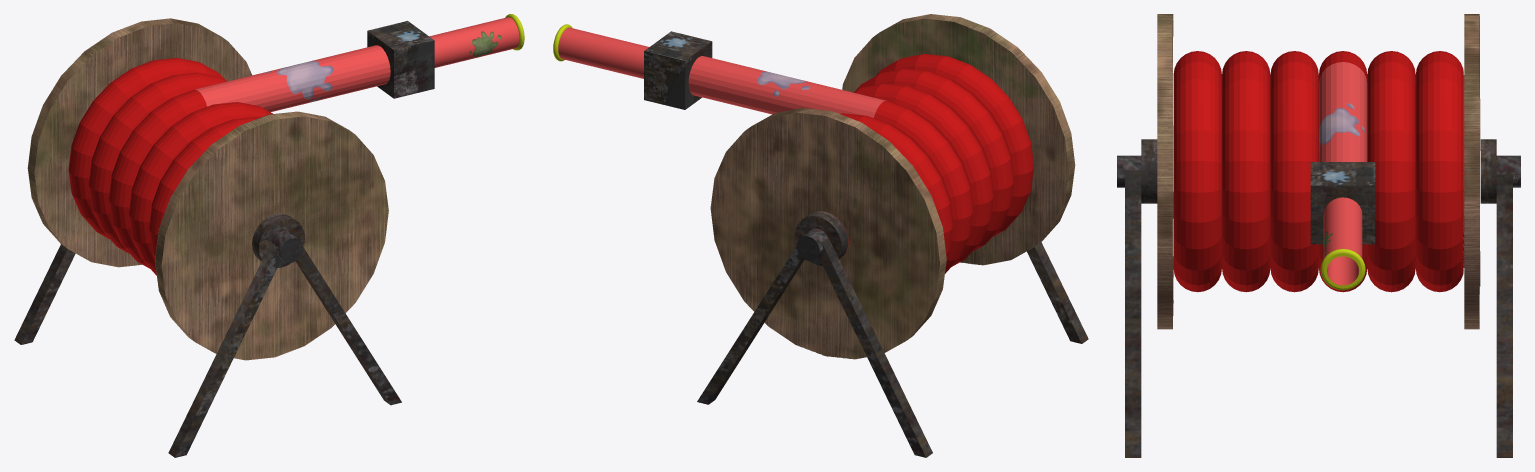
Rendered from Manguera.FBX.
The picture shows the model from 3 angles, left to right: view 1: azimuth 30°, elevation 25°; view 2: azimuth 150°, elevation 25°; view 3: azimuth 270°, elevation 25°; orthographic projection. The views are drawn at different scales.
Parts seen in each view (by area): view 1: Laterales madera, Manguera central, Manguera, Pata derecha, Cubo, Pata izquierda; view 2: Laterales madera, Manguera central, Manguera, Pata izquierda, Cubo, Pata derecha; view 3: Manguera central, Laterales madera, Manguera, Pata derecha, Pata izquierda, Cubo.
Part boxes in pixels (x1,y1,x2,y2): Laterales madera: [27, 18, 388, 360]; Manguera central: [68, 58, 272, 275]; Manguera: [195, 14, 524, 112]; Pata derecha: [168, 213, 401, 457]; Cubo: [367, 21, 434, 98]; Pata izquierda: [14, 244, 75, 344]; Laterales madera: [710, 14, 1075, 359]; Manguera central: [816, 54, 1033, 273]; Manguera: [553, 24, 886, 117]; Pata izquierda: [697, 211, 932, 457]; Cubo: [644, 31, 712, 109]; Pata derecha: [1027, 242, 1088, 343]; Manguera central: [1173, 51, 1464, 292]; Laterales madera: [1157, 14, 1480, 329]; Manguera: [1319, 62, 1464, 290]; Pata derecha: [1117, 139, 1157, 457]; Pata izquierda: [1480, 139, 1520, 457]; Cubo: [1310, 162, 1375, 244].
Size of the model in its own units: 3.72 by 2.48 by 2.5.
Materials: 6 (4 with a texture image).
